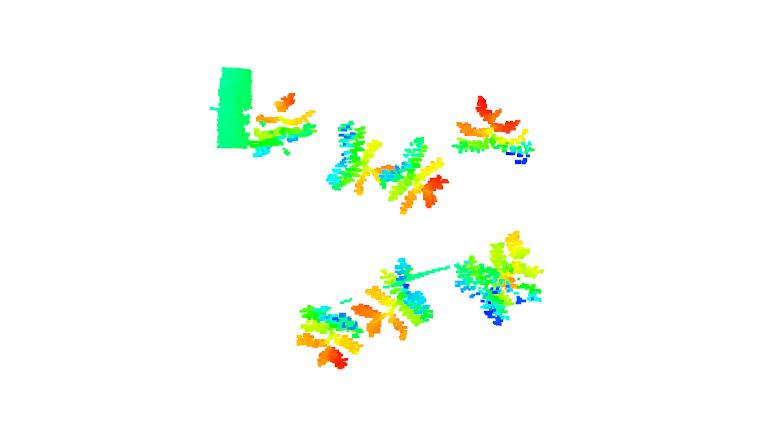chickpea: (451, 230, 548, 328), (350, 256, 436, 339), (323, 118, 400, 195), (453, 95, 536, 165), (384, 133, 450, 214), (246, 91, 319, 161), (294, 303, 366, 371)
